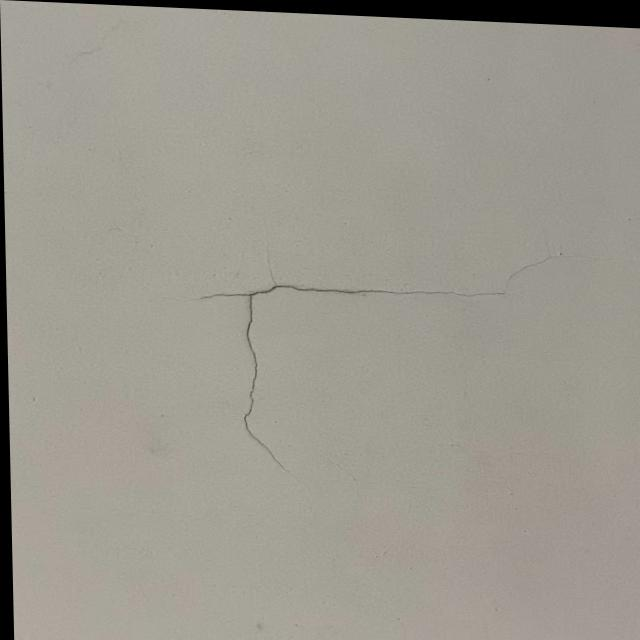crack: (188, 251, 575, 483)
